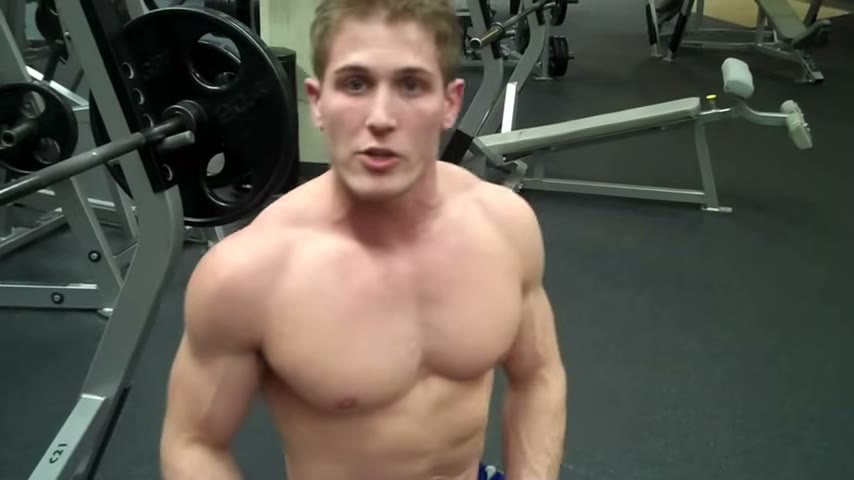barbell_plate_side: (627, 32, 829, 473), (0, 0, 86, 475)
